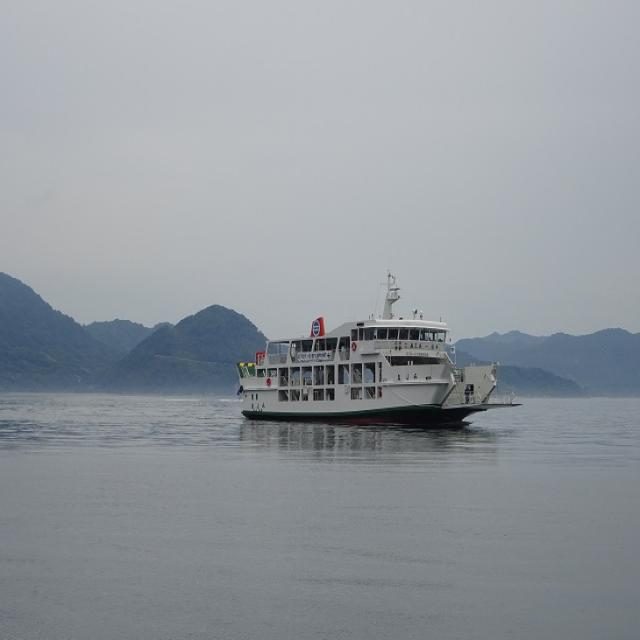houseboat: (195, 288, 522, 414)
